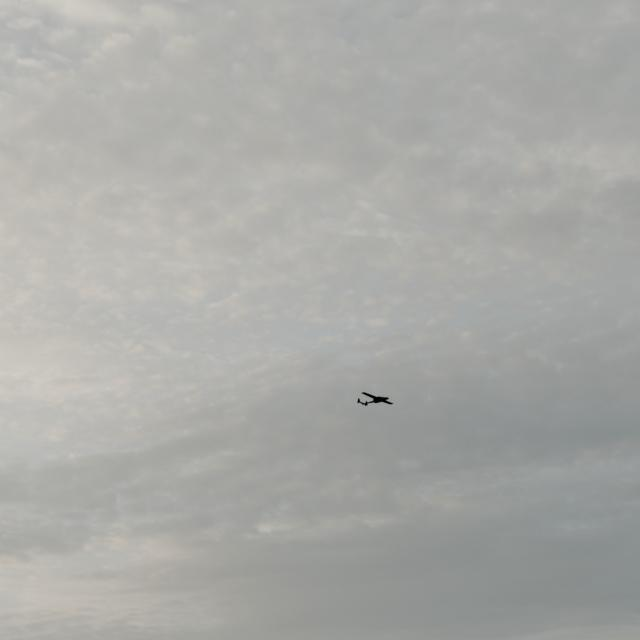Airaplan: (357, 392, 394, 406)
